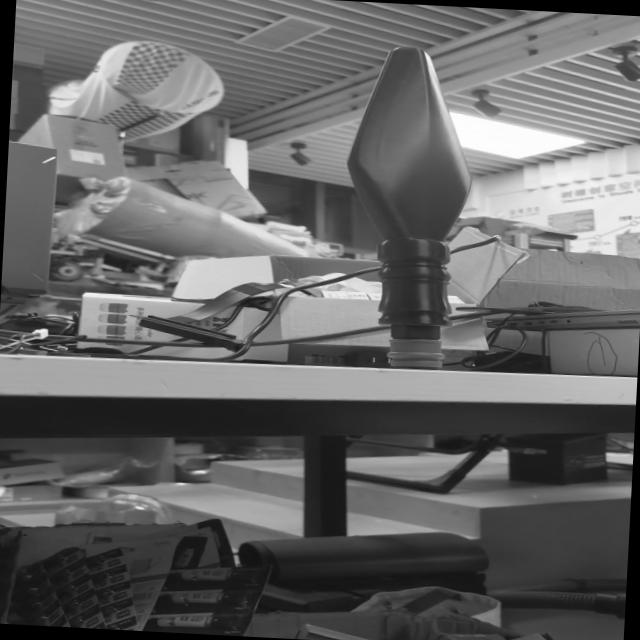base: (380, 332, 450, 376)
